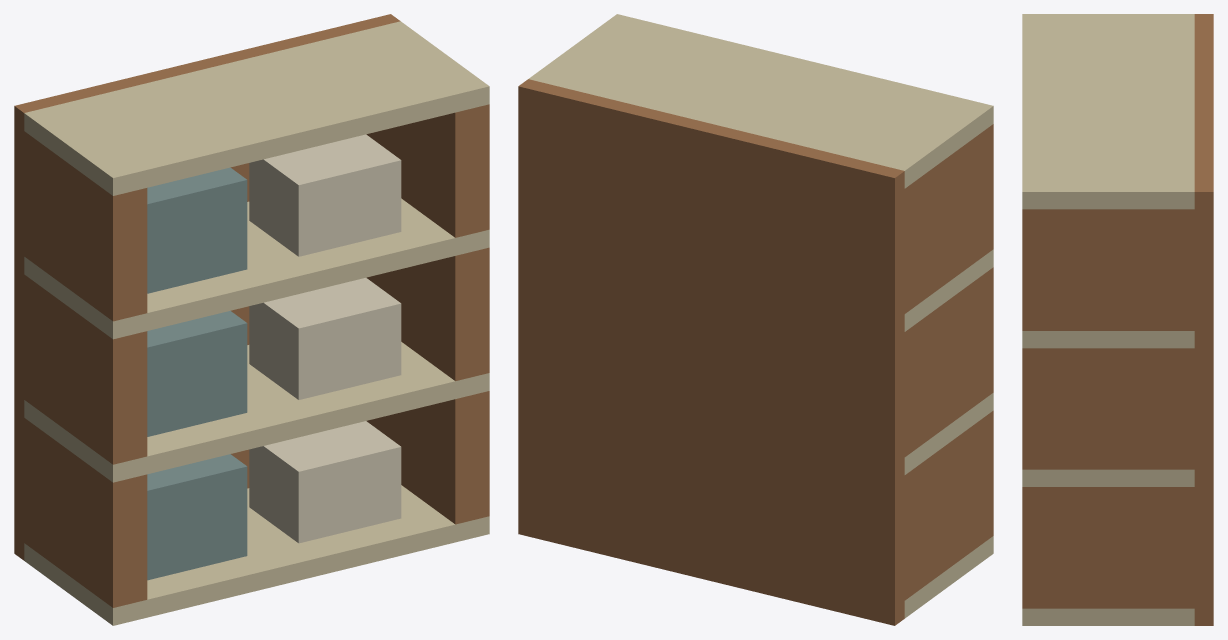
Rendered from robotics-10.glb.
3 renders of one model, left to right at view 1: azimuth 30°, elevation 25°; view 2: azimuth 150°, elevation 25°; view 3: azimuth 270°, elevation 25°, orthographic. The views are drawn at different scales.
Parts seen in each view (by area): view 1: Safety cage; view 2: Safety cage; view 3: Safety cage.
Part boxes in pixels (x1=…): Safety cage: x1=14, y1=14, x2=489, y2=625; Safety cage: x1=518, y1=14, x2=993, y2=625; Safety cage: x1=1022, y1=14, x2=1213, y2=625.
Bounding box in the file's own units: 1.76 × 2 × 0.8.
